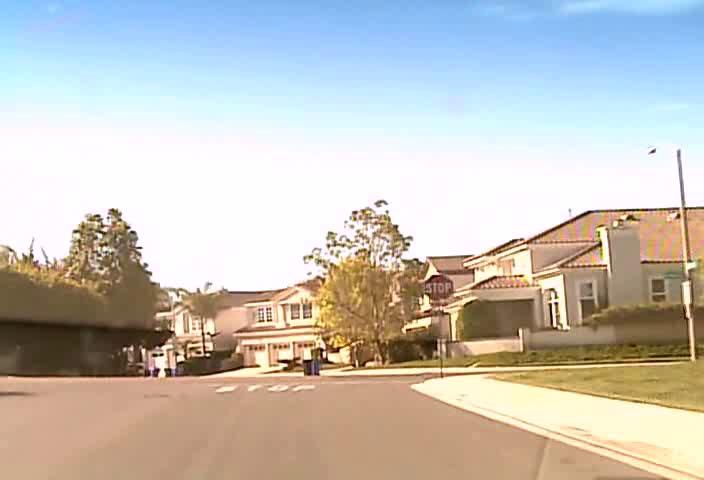stop: (424, 274, 454, 301)
